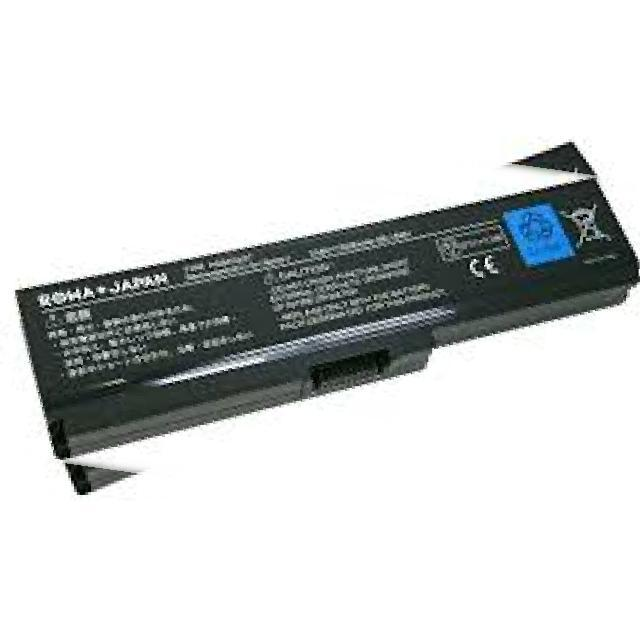Battery: (12, 139, 640, 504)
